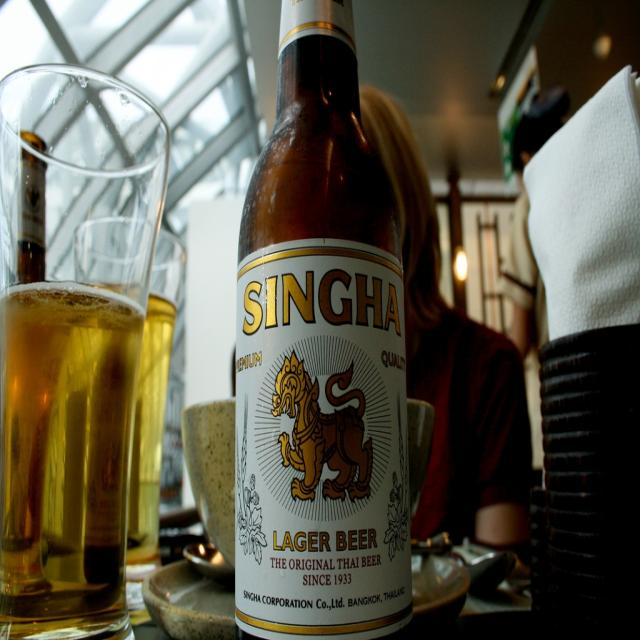singha: (236, 247, 412, 634)
